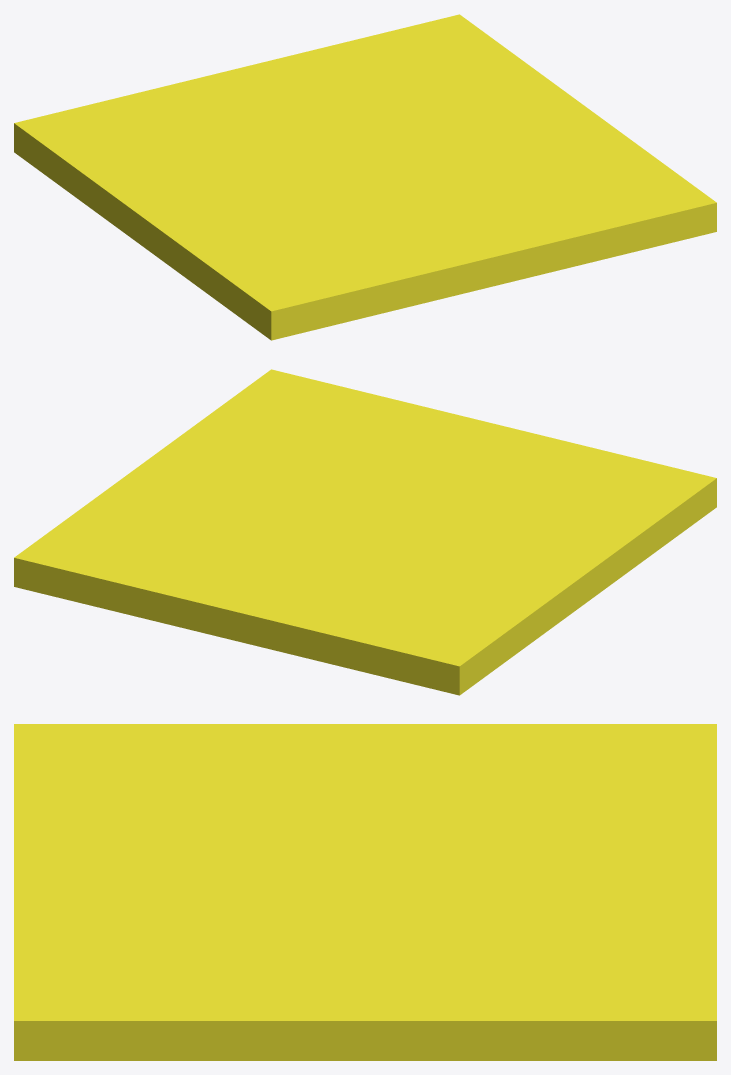
Rendered from sand.gltf.
3 views of the same model, one above another, from view 1: azimuth 30°, elevation 25°; view 2: azimuth 150°, elevation 25°; view 3: azimuth 270°, elevation 25° (orthographic). The views are drawn at different scales.
Parts seen in each view (by area): view 1: sand; view 2: sand; view 3: sand.
Part boxes in pixels (x1,y1,x2,y2): sand: (14, 14, 716, 340); sand: (14, 369, 716, 695); sand: (14, 724, 716, 1060).
Size of the model in its own units: 16 by 1 by 16.
Materials: 1 (1 with a texture image).
